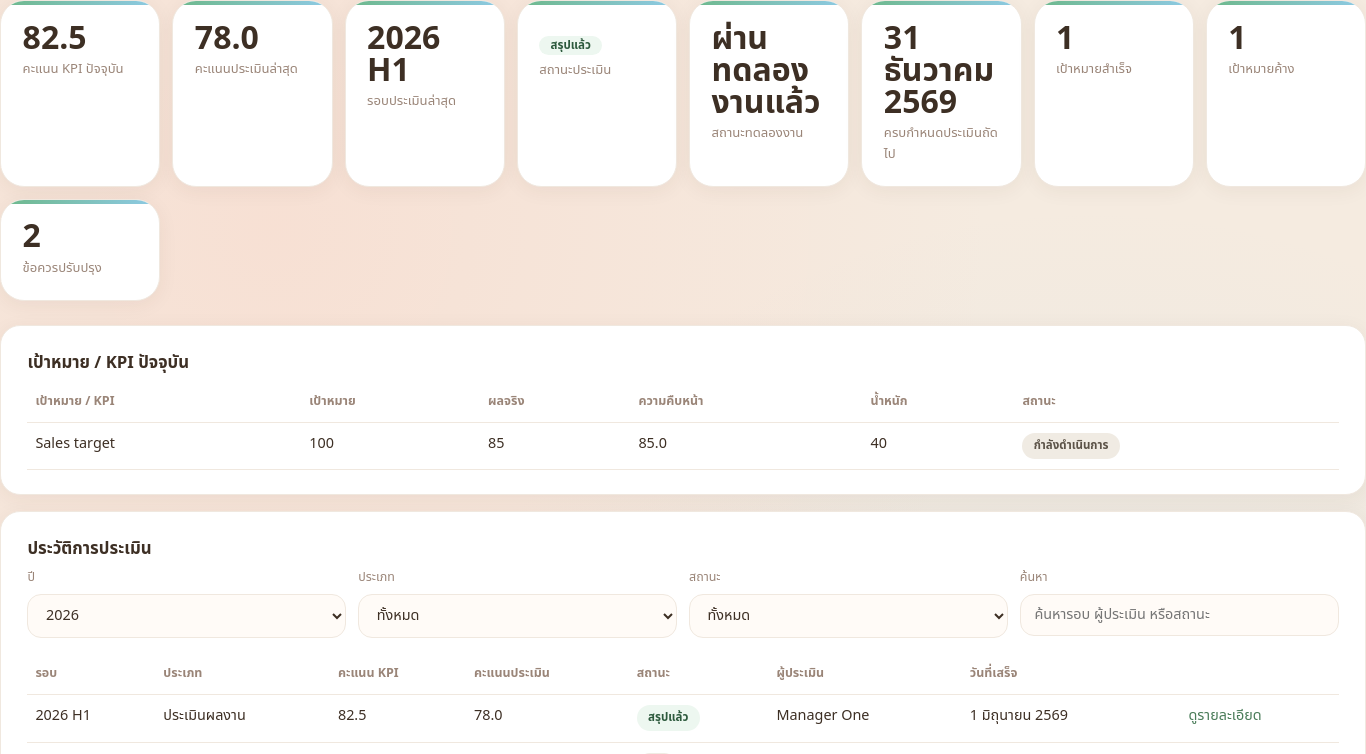
Test: EmployeePerformanceTab › filters review history by search
In the search field with test id "performance-search": (1179, 615) [1020, 594, 1339, 636], type "Manager Two"
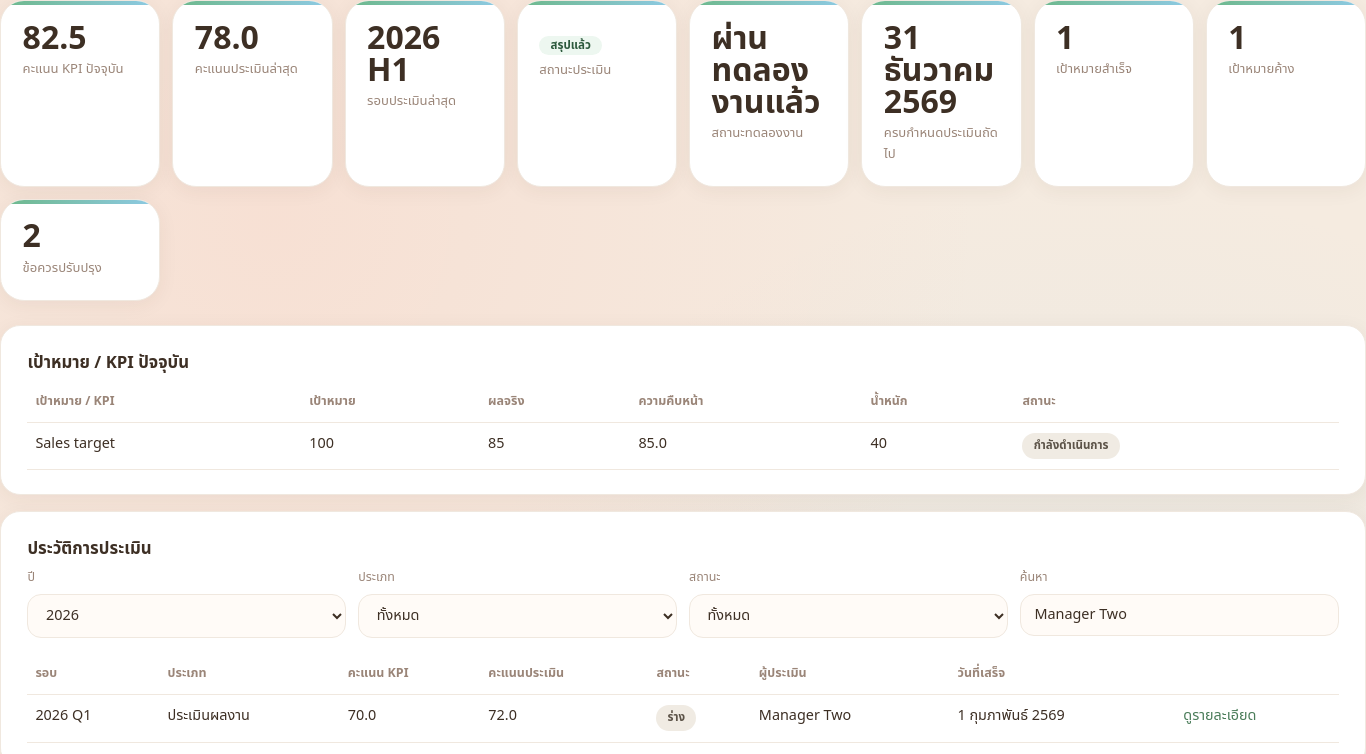
expect the row with test id "performance-history-row-review-2" is shown: met, box [27, 694, 1339, 742]
expect the row with test id "performance-history-row-review-1" is gone: met
